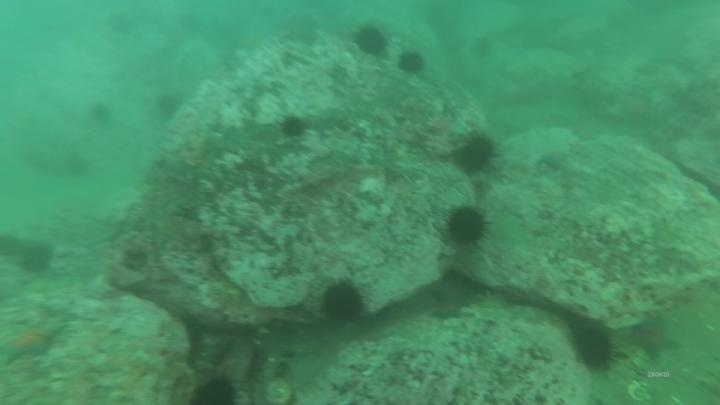echinus: (570, 324, 618, 373), (320, 279, 366, 325), (453, 131, 498, 176), (444, 204, 490, 248), (190, 374, 240, 404), (352, 23, 390, 59), (17, 241, 55, 276), (153, 90, 185, 122), (105, 10, 137, 38), (396, 49, 427, 77), (278, 113, 309, 141), (87, 100, 116, 129), (62, 151, 92, 179), (469, 34, 496, 61), (1, 234, 17, 259)
holothurian: (634, 264, 718, 307), (458, 293, 511, 324)
starfish: (1, 319, 66, 366), (625, 314, 683, 363), (617, 92, 656, 126), (535, 145, 573, 171), (427, 298, 468, 322)
